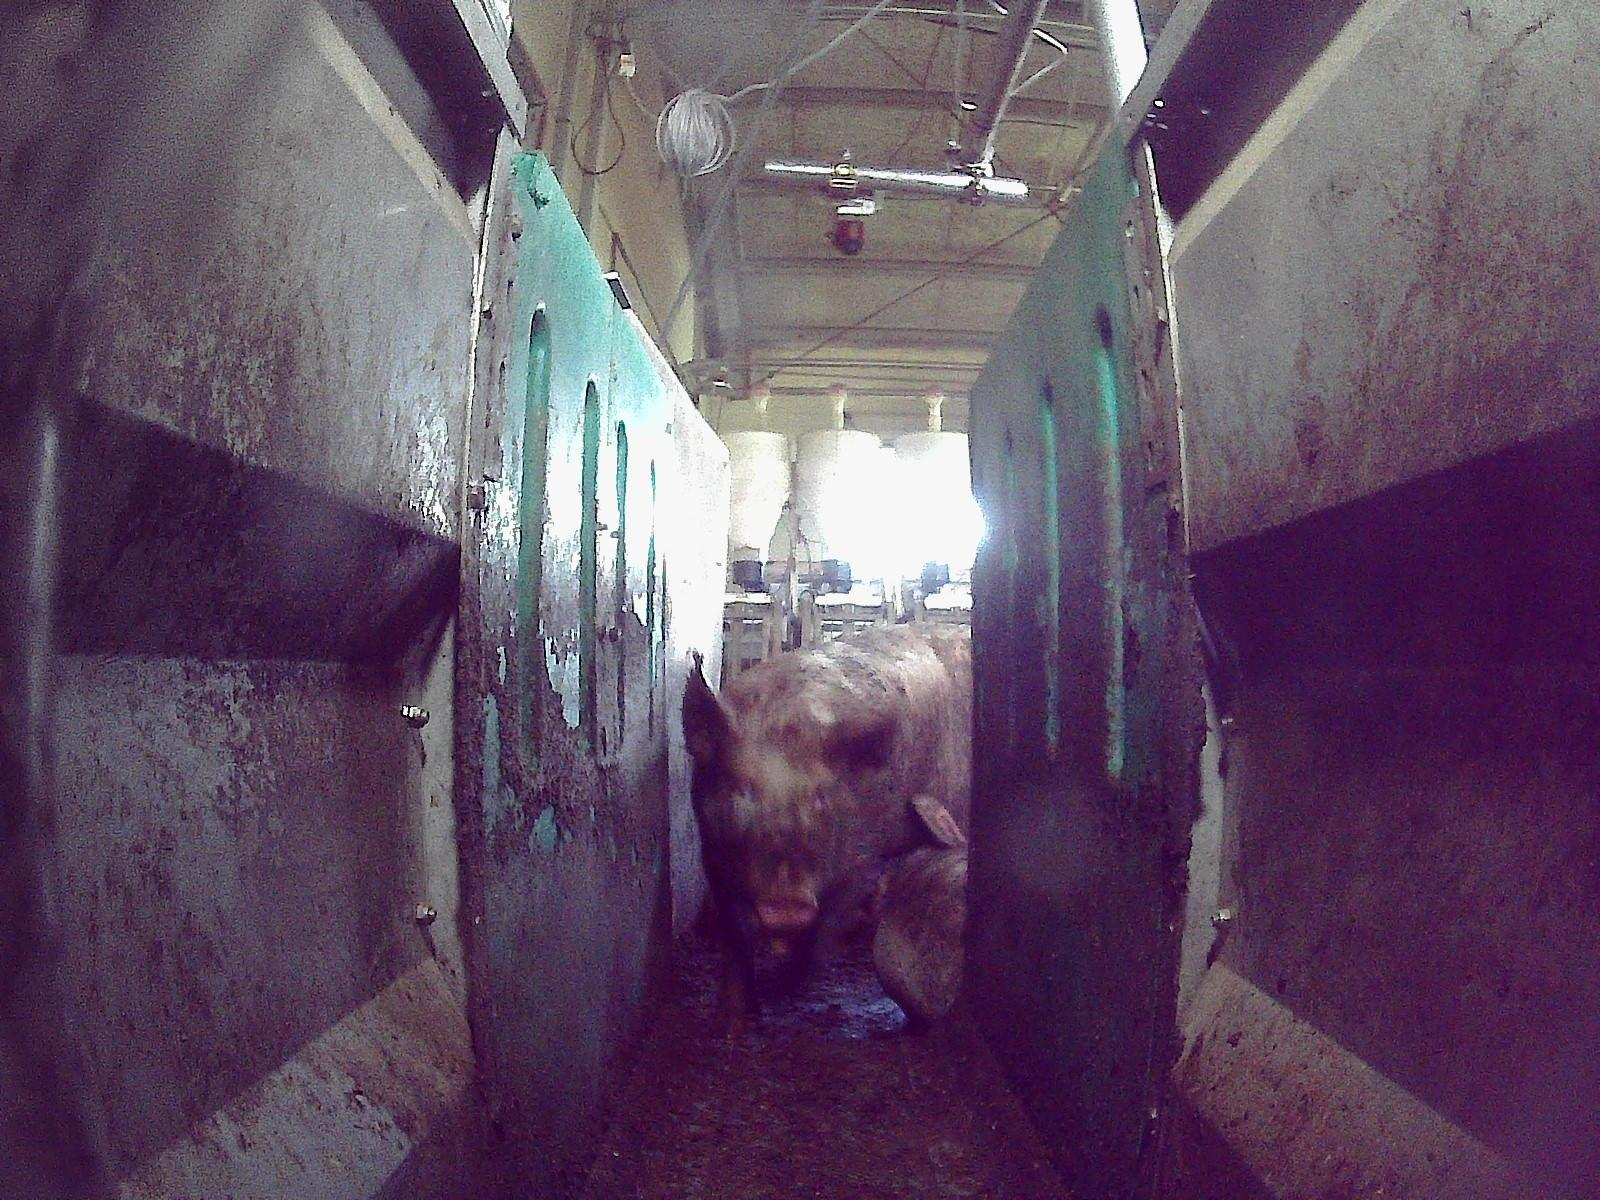Face: (715, 718, 842, 927)
